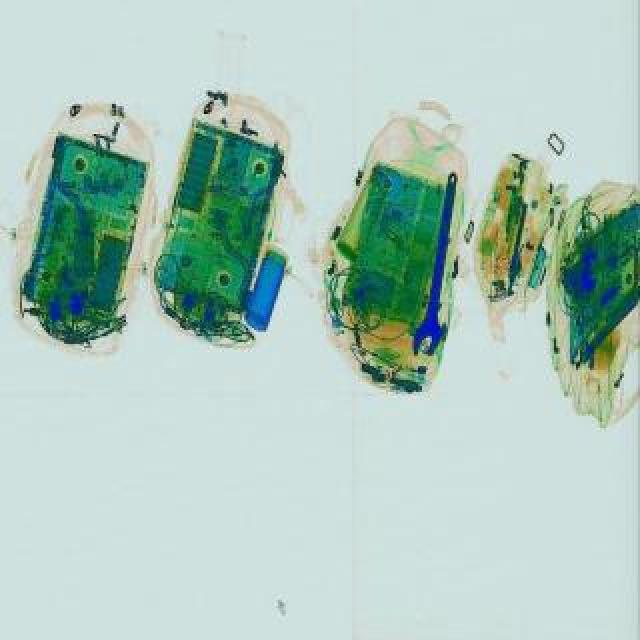scissors: (412, 172, 472, 360)
